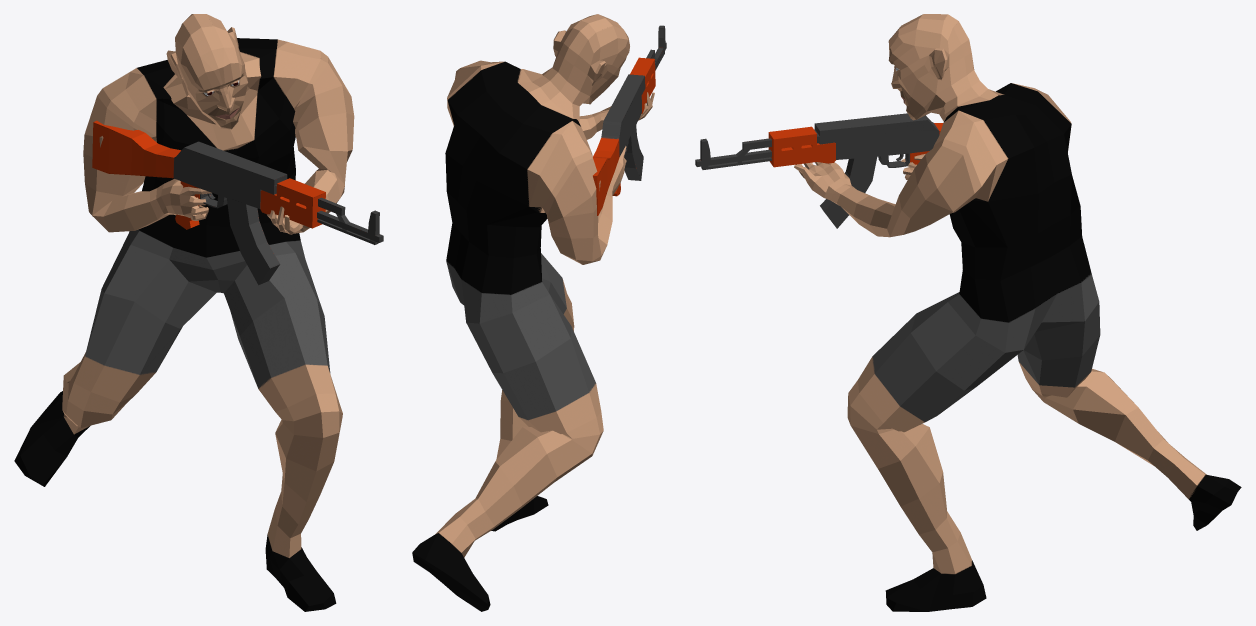
File: PlayerWalk(12).obj
3 views of the same model, side by side, from view 1: azimuth 30°, elevation 25°; view 2: azimuth 150°, elevation 25°; view 3: azimuth 270°, elevation 25° (orthographic). The views are drawn at different scales.
Parts seen in each view (by area): view 1: Plane002, Object001; view 2: Plane002, Object001; view 3: Plane002, Object001.
Part boxes in pixels (x1,y1,x2,y2): Plane002: (14, 14, 354, 611); Object001: (92, 120, 383, 285); Plane002: (412, 14, 654, 611); Object001: (593, 25, 666, 215); Plane002: (794, 14, 1241, 611); Object001: (695, 113, 943, 228).
Size of the model in its own units: 603 by 1549 by 1402.
